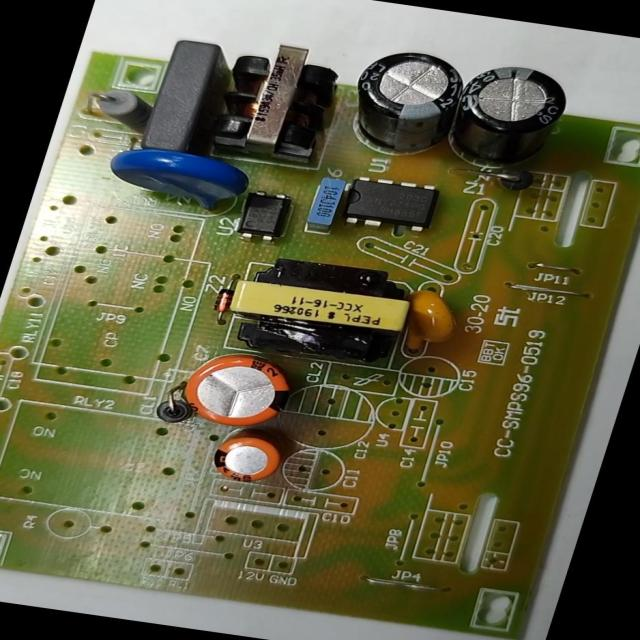Cap1: (165, 342, 313, 444)
Cap2: (203, 424, 301, 492)
Cap3: (327, 41, 486, 166)
Cap4: (430, 54, 583, 188)
MOSFET: (332, 169, 450, 241)
Mov: (95, 134, 262, 223)
Resistor: (74, 83, 164, 139)
Transformer: (212, 247, 432, 372), (178, 26, 358, 172)
